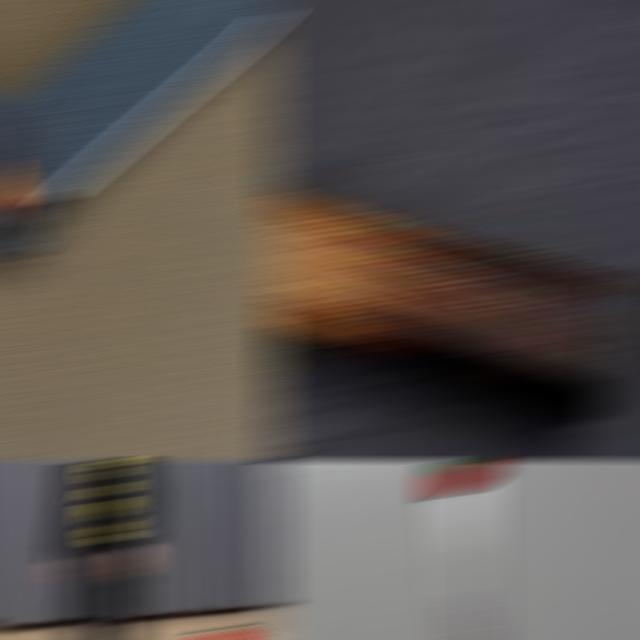Knife: (429, 461, 499, 639)
